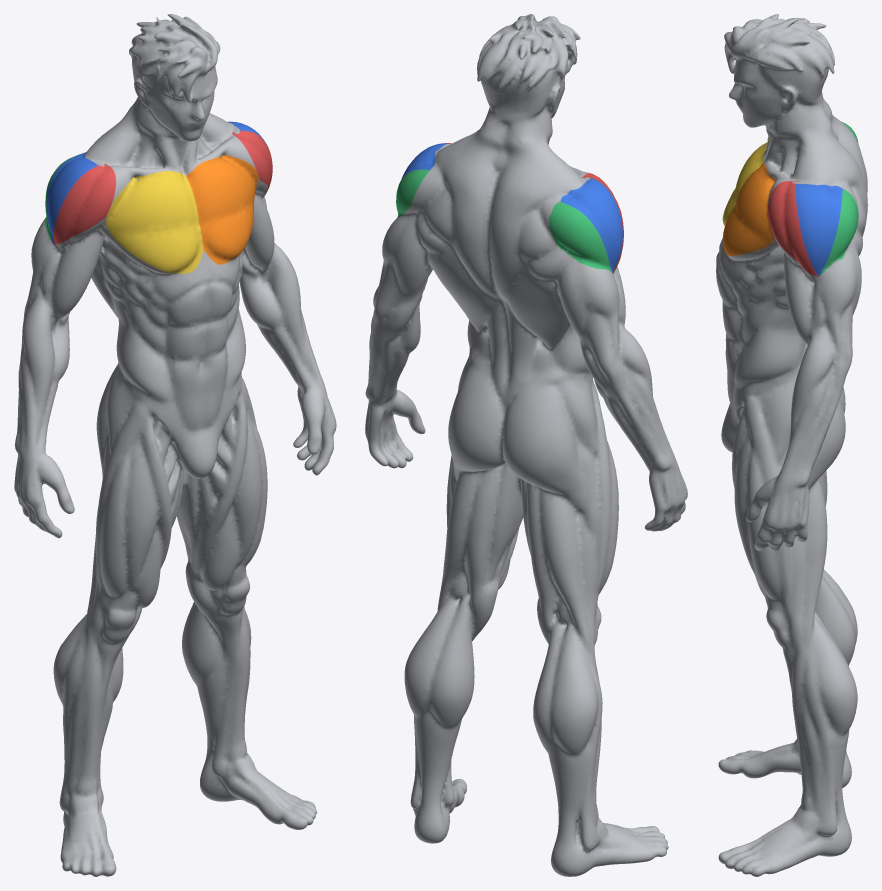
The model's file is meshy-eight-zones-control.glb.
3 views of the same model, side by side, from view 1: azimuth 30°, elevation 25°; view 2: azimuth 150°, elevation 25°; view 3: azimuth 270°, elevation 25° (orthographic).
Visible parts, largest first — view 1: meshy.anatomical_form.marble_titan.local_neck_finish; view 2: meshy.anatomical_form.marble_titan.local_neck_finish; view 3: meshy.anatomical_form.marble_titan.local_neck_finish.
Boxes of the visible parts, left/top/right/bottom form: meshy.anatomical_form.marble_titan.local_neck_finish: left=14, top=14, right=336, bottom=876; meshy.anatomical_form.marble_titan.local_neck_finish: left=365, top=14, right=687, bottom=876; meshy.anatomical_form.marble_titan.local_neck_finish: left=716, top=14, right=867, bottom=876.
Bounding box in the file's own units: 0.7588 × 1.9 × 0.3255.
1 material, 1 textured.
